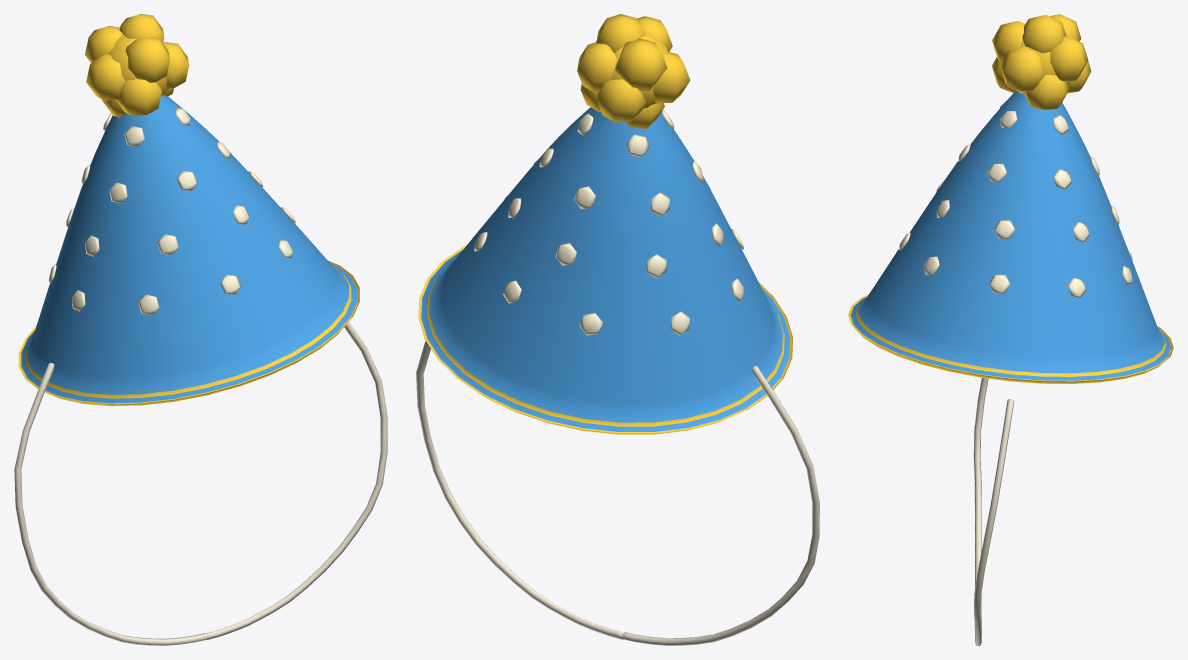
The model's file is hat_party.glb.
The picture shows the model from 3 angles, left to right: view 1: azimuth 30°, elevation 25°; view 2: azimuth 150°, elevation 25°; view 3: azimuth 270°, elevation 25°; orthographic projection. The views are drawn at different scales.
Visible parts, largest first — view 1: HatParty; view 2: HatParty; view 3: HatParty.
Boxes of the visible parts, x1,y1,x2,y2 form: HatParty: (14, 14, 387, 645); HatParty: (416, 14, 819, 645); HatParty: (848, 14, 1173, 645).
Size of the model in its own units: 0.5123 by 0.8025 by 0.3992.
